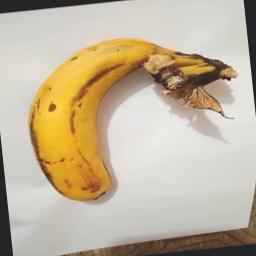Banana Unripe: (19, 19, 247, 208)
